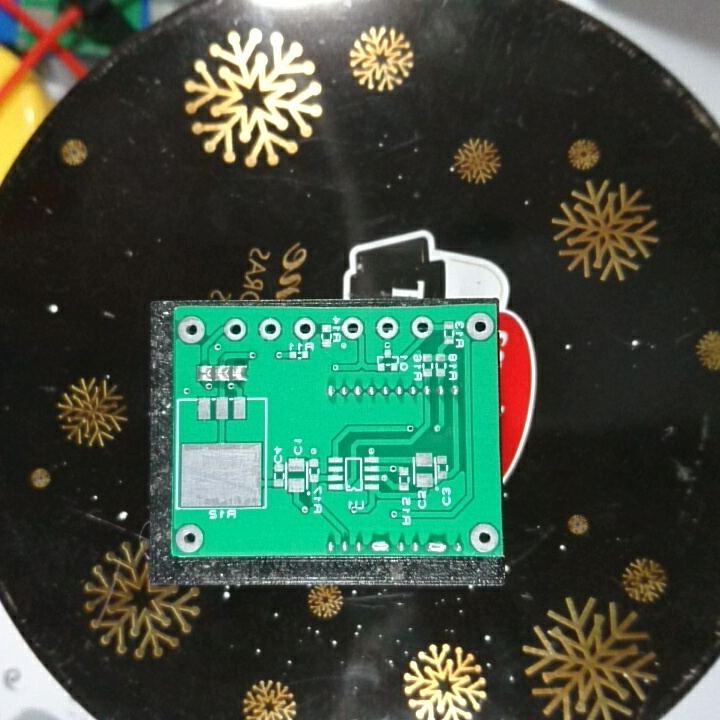F: (467, 520, 502, 555), (174, 522, 207, 554), (175, 314, 208, 345), (464, 312, 494, 342), (256, 316, 283, 343), (222, 316, 248, 343), (340, 314, 366, 341), (292, 316, 318, 341), (374, 315, 400, 340), (409, 314, 434, 339)
P: (425, 538, 448, 555), (369, 538, 391, 555)
